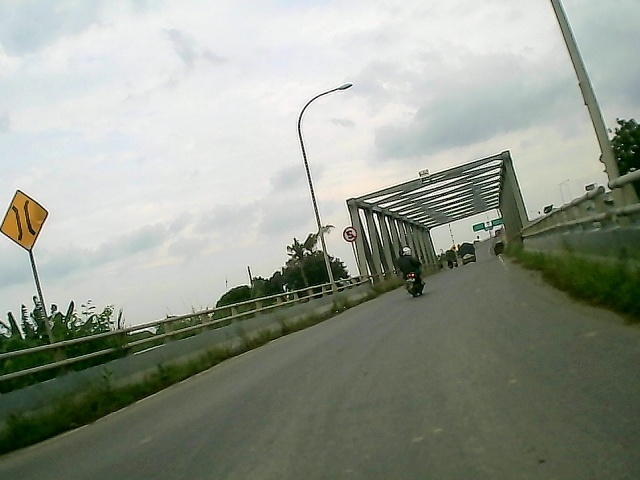Dilarang berhenti: (341, 224, 359, 244)
Jembatan: (1, 188, 51, 250)
